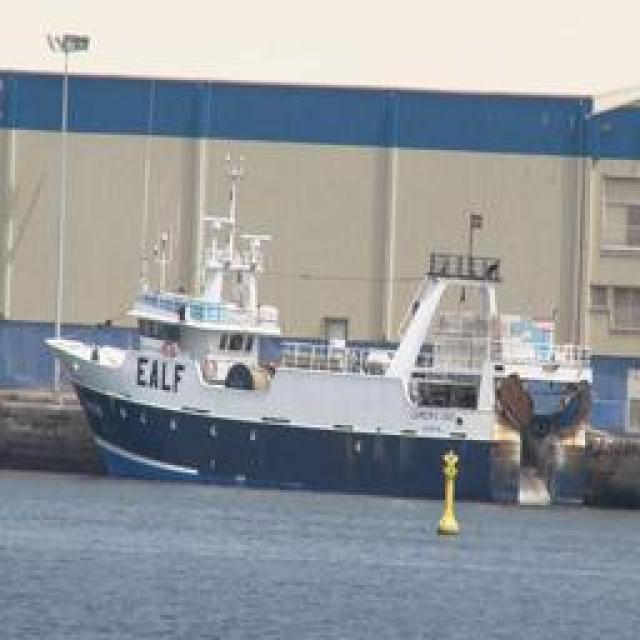ship2: (45, 159, 593, 507)
